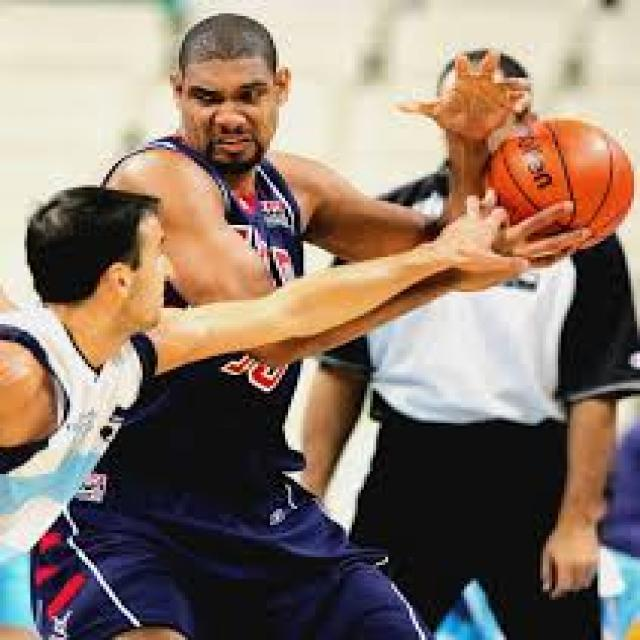rim: (491, 118, 631, 246)
